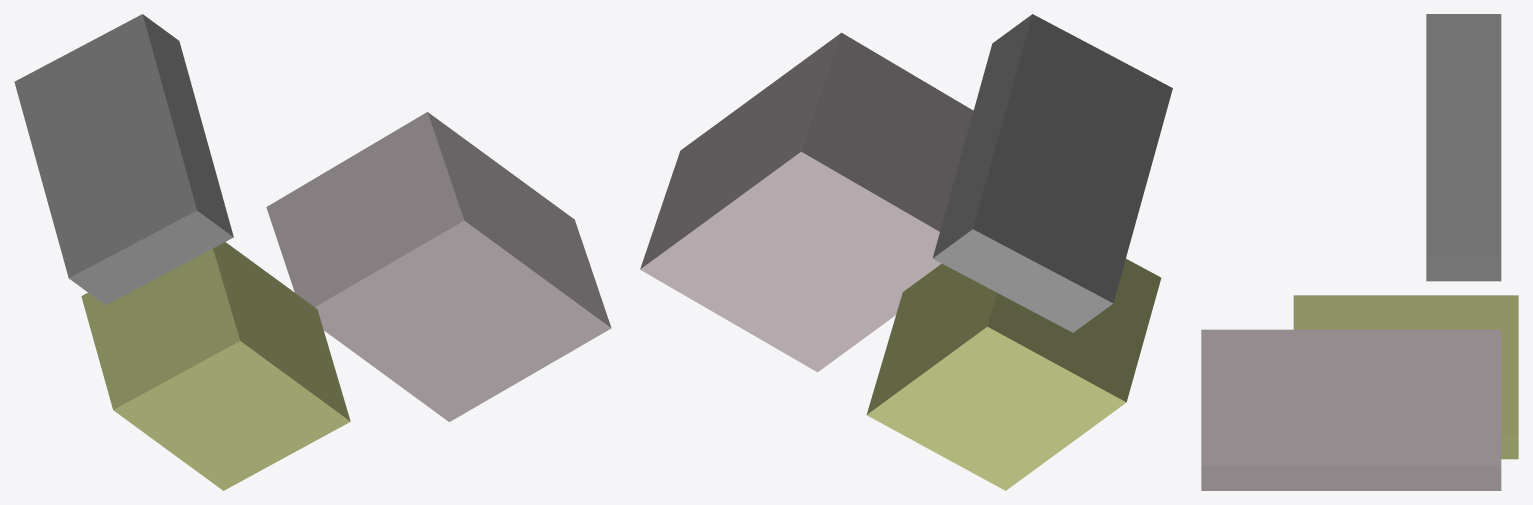
3 renders of one model, left to right at view 1: azimuth 30°, elevation 25°; view 2: azimuth 150°, elevation 25°; view 3: azimuth 270°, elevation 25°, orthographic. The views are drawn at different scales.
Parts seen in each view (by area): view 1: 0_1_0_0_1_0_2_1_0_0; view 2: 0_1_0_0_1_0_2_1_0_0; view 3: 0_1_0_0_1_0_2_1_0_0.
Part boxes in pixels (x1,y1,x2,y2): 0_1_0_0_1_0_2_1_0_0: [14, 14, 611, 490]; 0_1_0_0_1_0_2_1_0_0: [640, 14, 1172, 490]; 0_1_0_0_1_0_2_1_0_0: [1201, 14, 1518, 490].
Bounding box in the file's own units: 21.17 × 17.86 × 12.7.
